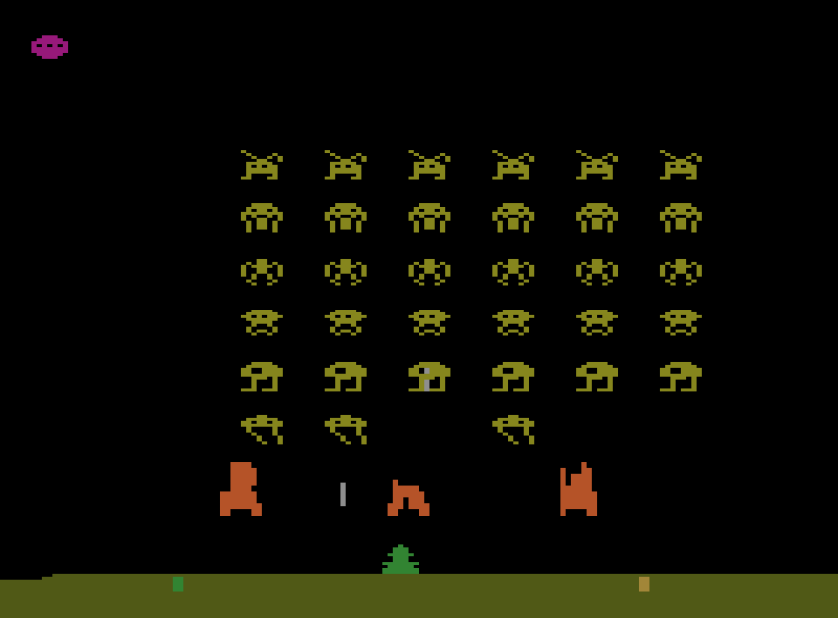bonus: (29, 33, 70, 60)
bullet: (339, 480, 348, 507)
invader1: (406, 146, 452, 181), (658, 148, 705, 182), (491, 148, 536, 181), (575, 147, 620, 180), (324, 148, 369, 180), (239, 148, 284, 179)
invader2: (574, 200, 620, 235), (322, 200, 369, 234), (657, 200, 704, 234), (406, 201, 452, 234), (490, 202, 536, 235), (239, 201, 284, 234)
invader3: (490, 256, 535, 288), (323, 257, 369, 288), (239, 257, 284, 288), (574, 257, 619, 288), (658, 257, 703, 288), (407, 257, 453, 287)
invader4: (574, 307, 620, 338), (658, 307, 704, 338), (239, 307, 285, 337), (324, 307, 369, 337), (493, 308, 536, 338), (407, 309, 452, 337)
invader5: (407, 358, 452, 395), (657, 359, 703, 394), (489, 359, 535, 393), (323, 359, 368, 393), (238, 360, 284, 393), (574, 360, 620, 393)
invader6: (323, 411, 368, 447), (489, 413, 535, 446), (240, 414, 285, 447)
player: (379, 540, 421, 574)
